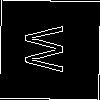W: (24, 25, 74, 74)
